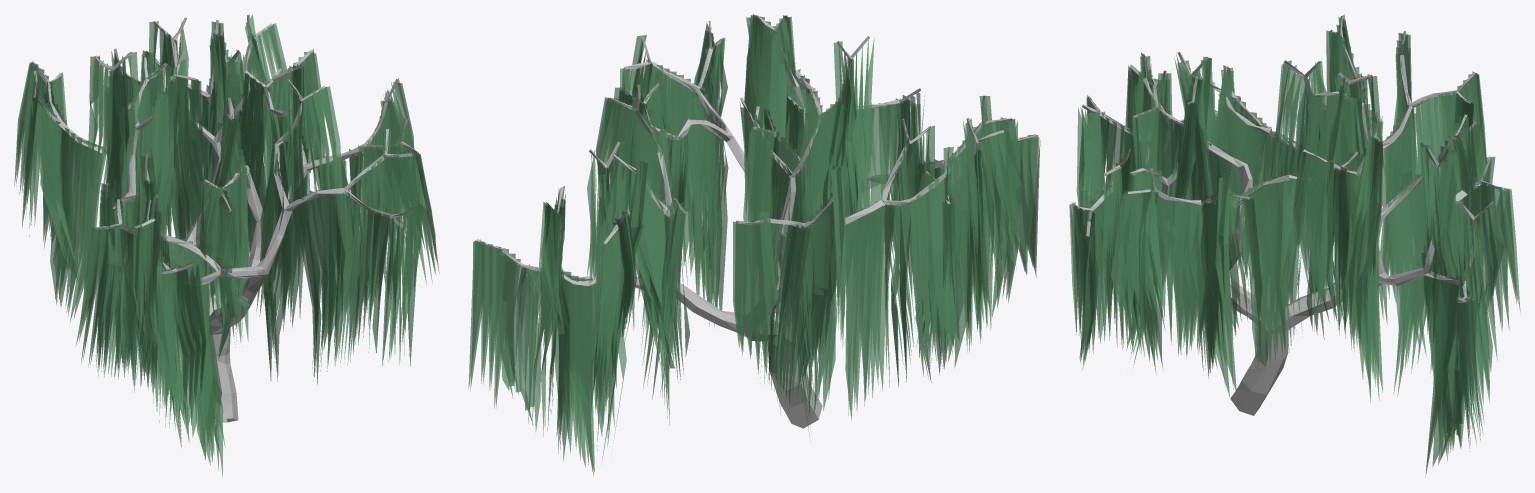
Rendered from WillowTree.fbx.
3 renders of one model, left to right at view 1: azimuth 30°, elevation 25°; view 2: azimuth 150°, elevation 25°; view 3: azimuth 270°, elevation 25°, orthographic. The views are drawn at different scales.
Parts seen in each view (by area): view 1: willow2Leaf, willow2Main; view 2: willow2Leaf, willow2Main; view 3: willow2Leaf, willow2Main.
Boxes of the visible parts, box(x1,y1,x2,y2) form: willow2Leaf: box(14, 14, 439, 477); willow2Main: box(31, 14, 418, 422); willow2Leaf: box(468, 14, 1040, 476); willow2Main: box(477, 15, 1036, 428); willow2Leaf: box(1069, 14, 1520, 477); willow2Main: box(1072, 15, 1506, 415).
Size of the model in its own units: 19.32 by 19.7 by 21.65.
